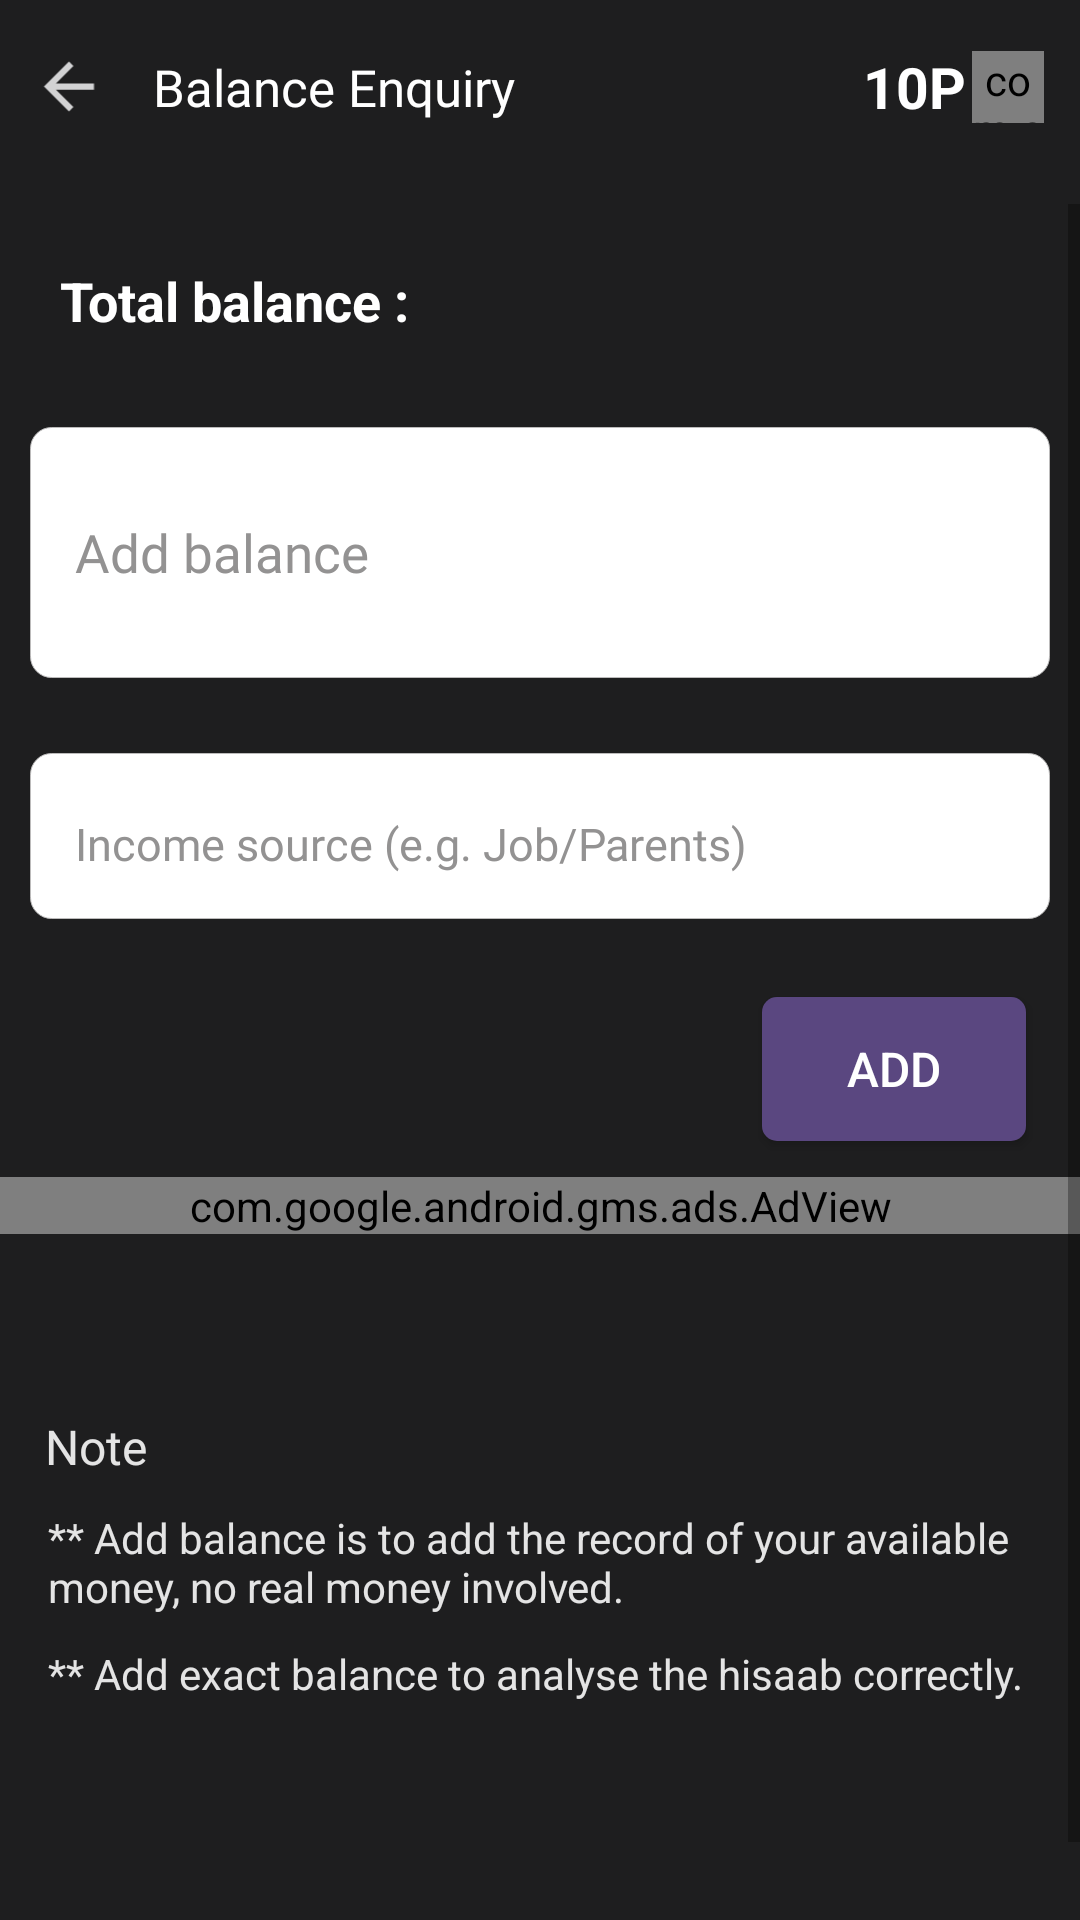

Locate icon controls on the screen. Image size 1080 x 1920, boxes as (x1, y1, x2, y2).
back: (44, 62, 95, 111)
